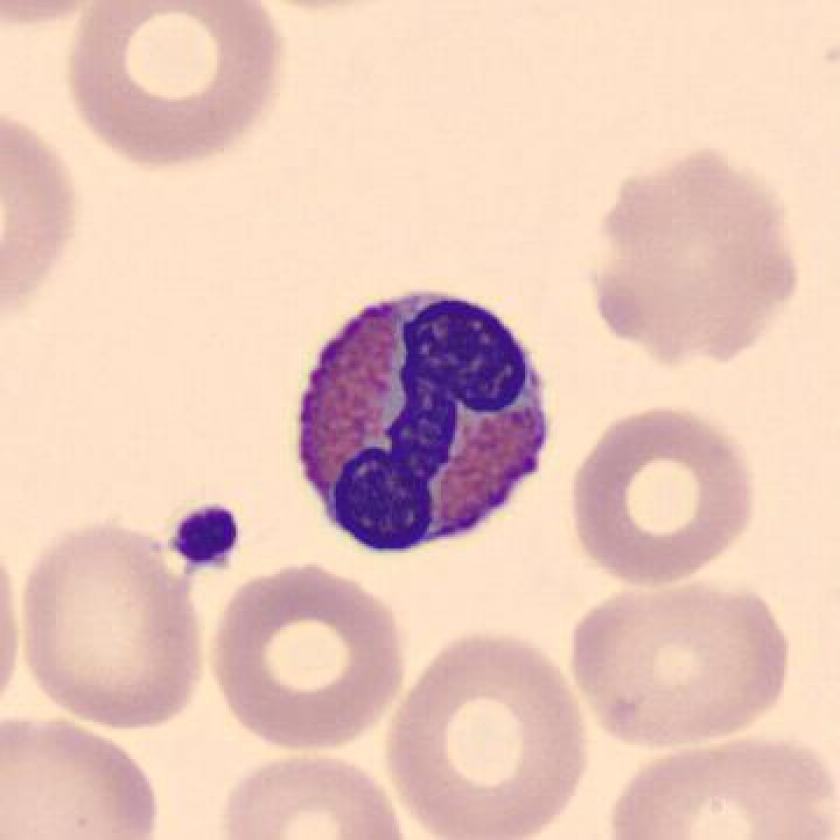eosinophil: (286, 272, 561, 566)
